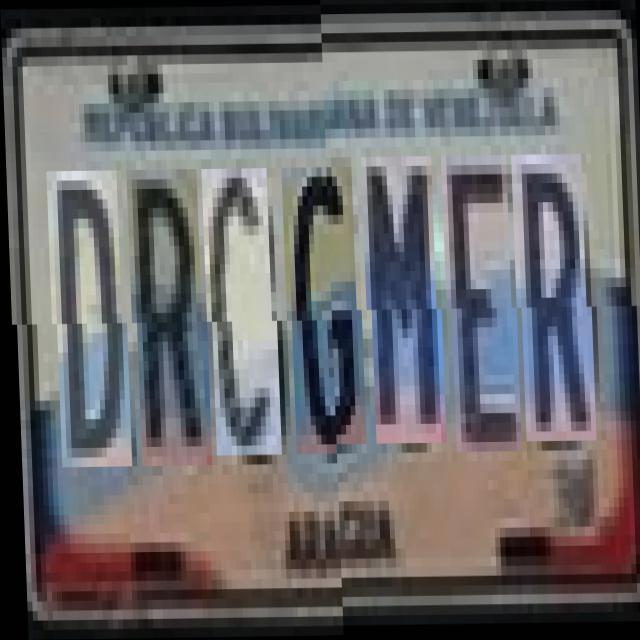C: (205, 169, 278, 456)
D: (50, 170, 129, 468)
E: (445, 166, 519, 463)
G: (285, 168, 363, 455)
M: (365, 167, 443, 454)
R: (130, 170, 209, 466), (515, 165, 593, 452)
